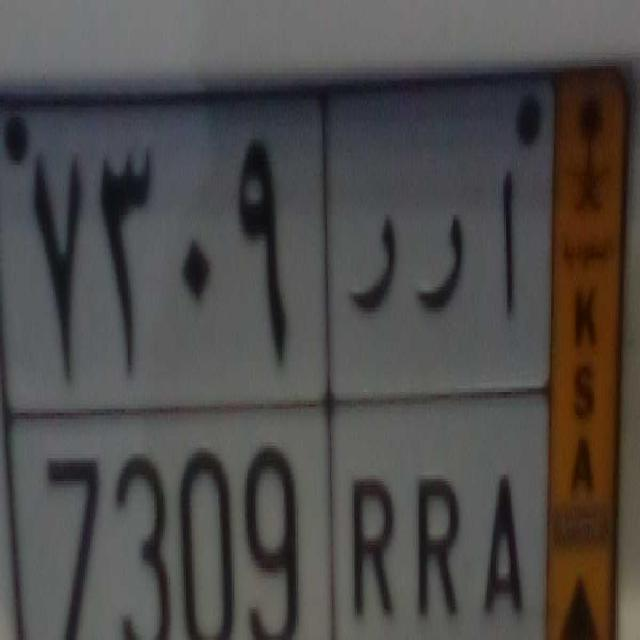license_plate: (6, 399, 545, 640)
